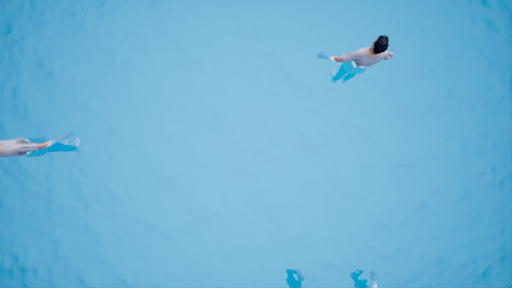person: (313, 29, 397, 95), (1, 122, 79, 167)
